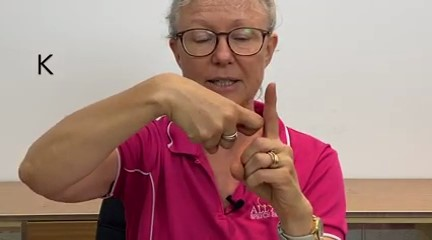K: (144, 61, 315, 216)
